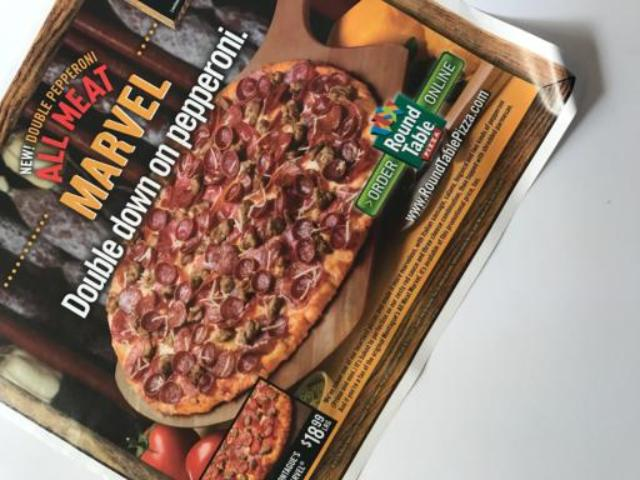cardboard paper: (0, 0, 572, 476)
